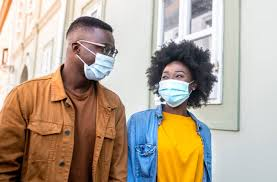with_mask: (67, 33, 118, 83), (158, 67, 197, 108)
